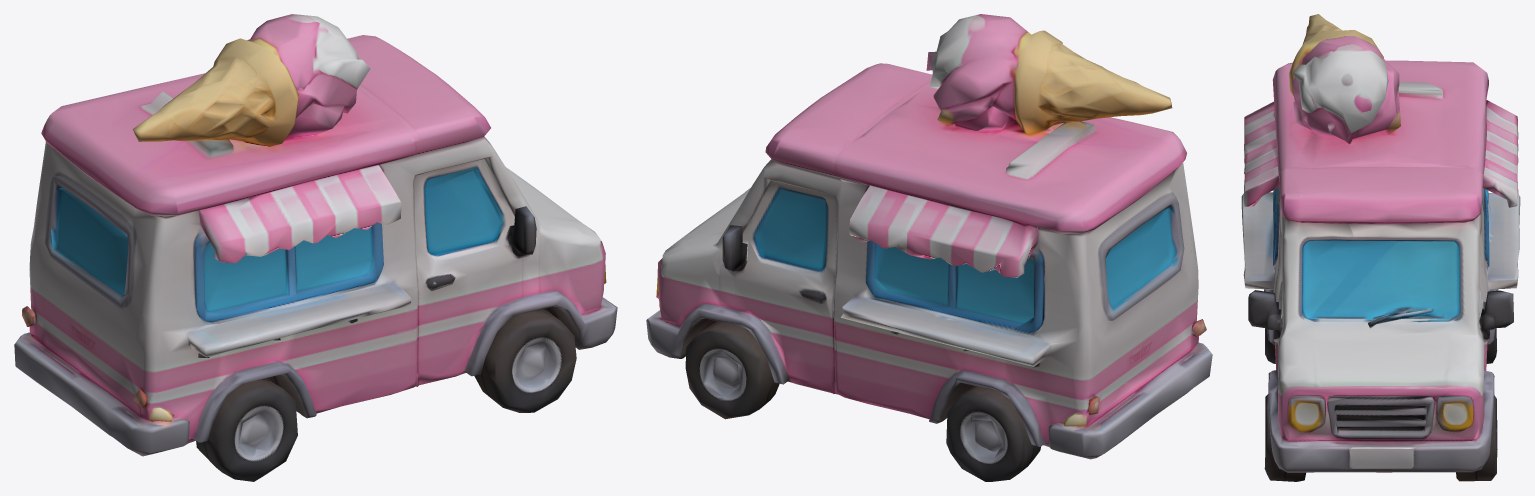
Rendered from whippy_van.glb.
The picture shows the model from 3 angles, left to right: view 1: azimuth 30°, elevation 25°; view 2: azimuth 150°, elevation 25°; view 3: azimuth 270°, elevation 25°; orthographic projection. The views are drawn at different scales.
Parts seen in each view (by area): view 1: tripo_node_41912e19-ca34-44c3-94a5-e3902fc3aa2c; view 2: tripo_node_41912e19-ca34-44c3-94a5-e3902fc3aa2c; view 3: tripo_node_41912e19-ca34-44c3-94a5-e3902fc3aa2c.
Part boxes in pixels (box(x1,y1,x2,y2)): tripo_node_41912e19-ca34-44c3-94a5-e3902fc3aa2c: box(14, 14, 617, 481); tripo_node_41912e19-ca34-44c3-94a5-e3902fc3aa2c: box(646, 14, 1212, 481); tripo_node_41912e19-ca34-44c3-94a5-e3902fc3aa2c: box(1241, 14, 1520, 481).
Bounding box in the file's own units: 1 × 0.7906 × 0.5684.
1 material, 1 textured.
